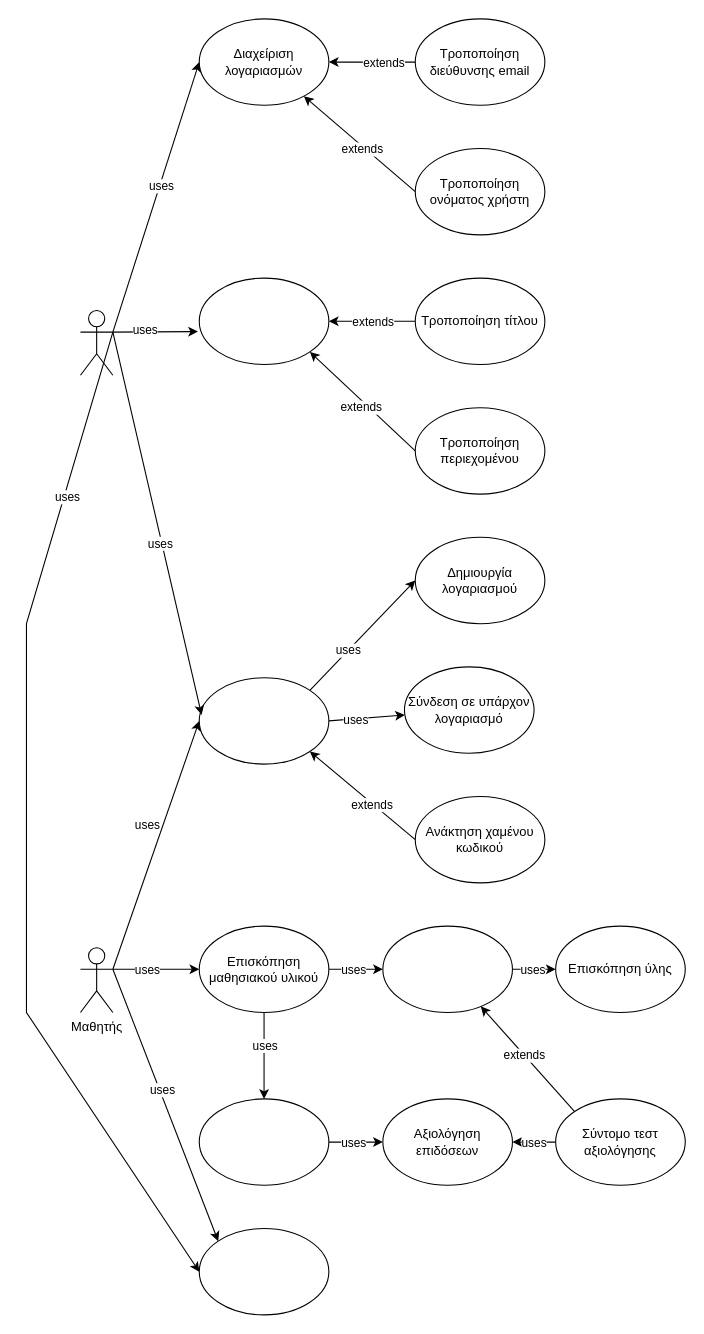
Some shapes in this 704 by 1334 pixel diagram are drawn without their labels. The centre of each missing label's shape, as x and y in pixels:
Αποσύνδεση: (x=263, y=1271)
Διαχείριση εκπαιδευτικού υλικού: (x=263, y=320)
Διαχειριστής: (x=96, y=342)
Επιλογή μαθήματος προπαίδειας: (x=447, y=969)
Σύστημα ταυτοποίησης: (x=263, y=720)
Τεστ αξιολόγησης: (x=263, y=1141)
